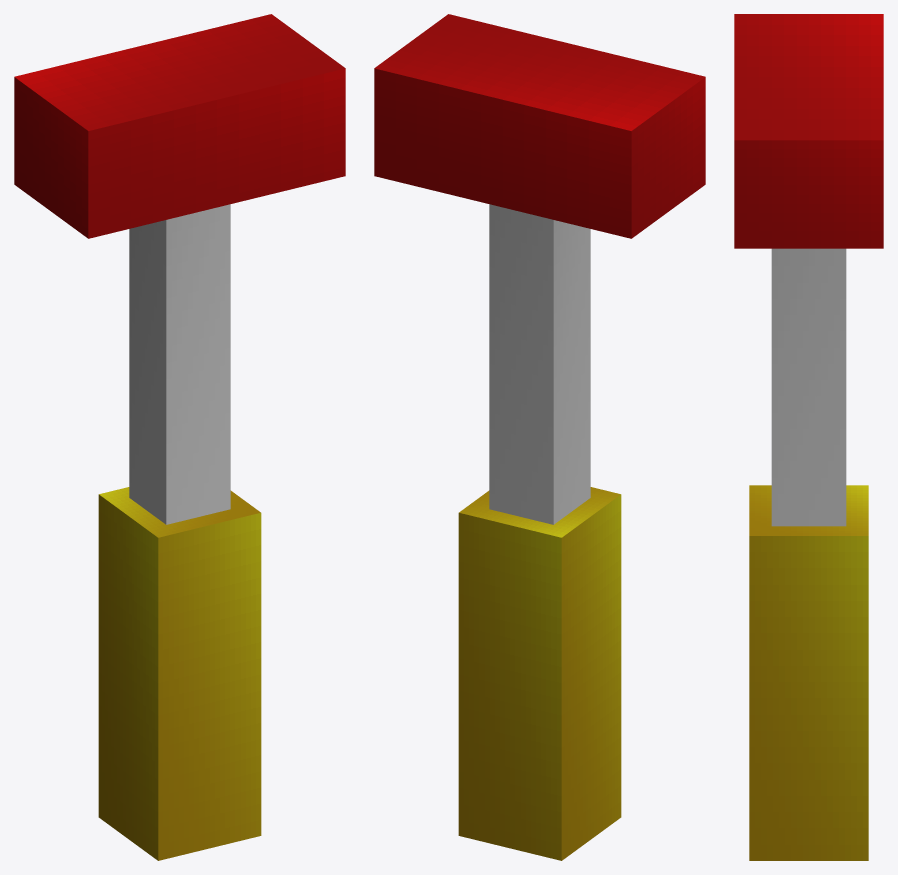
File: MNM_SH.obj
3 renders of one model, left to right at view 1: azimuth 30°, elevation 25°; view 2: azimuth 150°, elevation 25°; view 3: azimuth 270°, elevation 25°, orthographic.
Parts seen in each view (by area): view 1: Cube, Cube.002_Cube.006, Cube.001; view 2: Cube, Cube.002_Cube.006, Cube.001; view 3: Cube, Cube.002_Cube.006, Cube.001.
Part boxes in pixels (bbox=[...]): Cube: bbox=[98, 487, 261, 860]; Cube.002_Cube.006: bbox=[14, 14, 345, 238]; Cube.001: bbox=[129, 204, 230, 524]; Cube: bbox=[458, 487, 621, 860]; Cube.002_Cube.006: bbox=[374, 14, 705, 238]; Cube.001: bbox=[489, 204, 590, 524]; Cube: bbox=[749, 485, 868, 860]; Cube.002_Cube.006: bbox=[734, 14, 883, 248]; Cube.001: bbox=[771, 248, 846, 526].
Size of the model in its own units: 10 by 28 by 5.
1 material, 1 textured.
